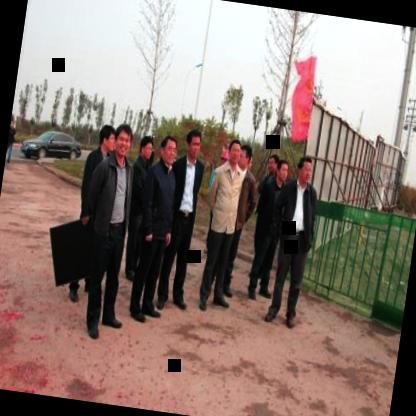head: (110, 119, 138, 162), (154, 128, 180, 172), (182, 124, 207, 166), (93, 120, 117, 158), (293, 150, 316, 184), (135, 131, 156, 165), (234, 140, 253, 174), (226, 135, 243, 168), (275, 154, 292, 186), (262, 150, 280, 179)
